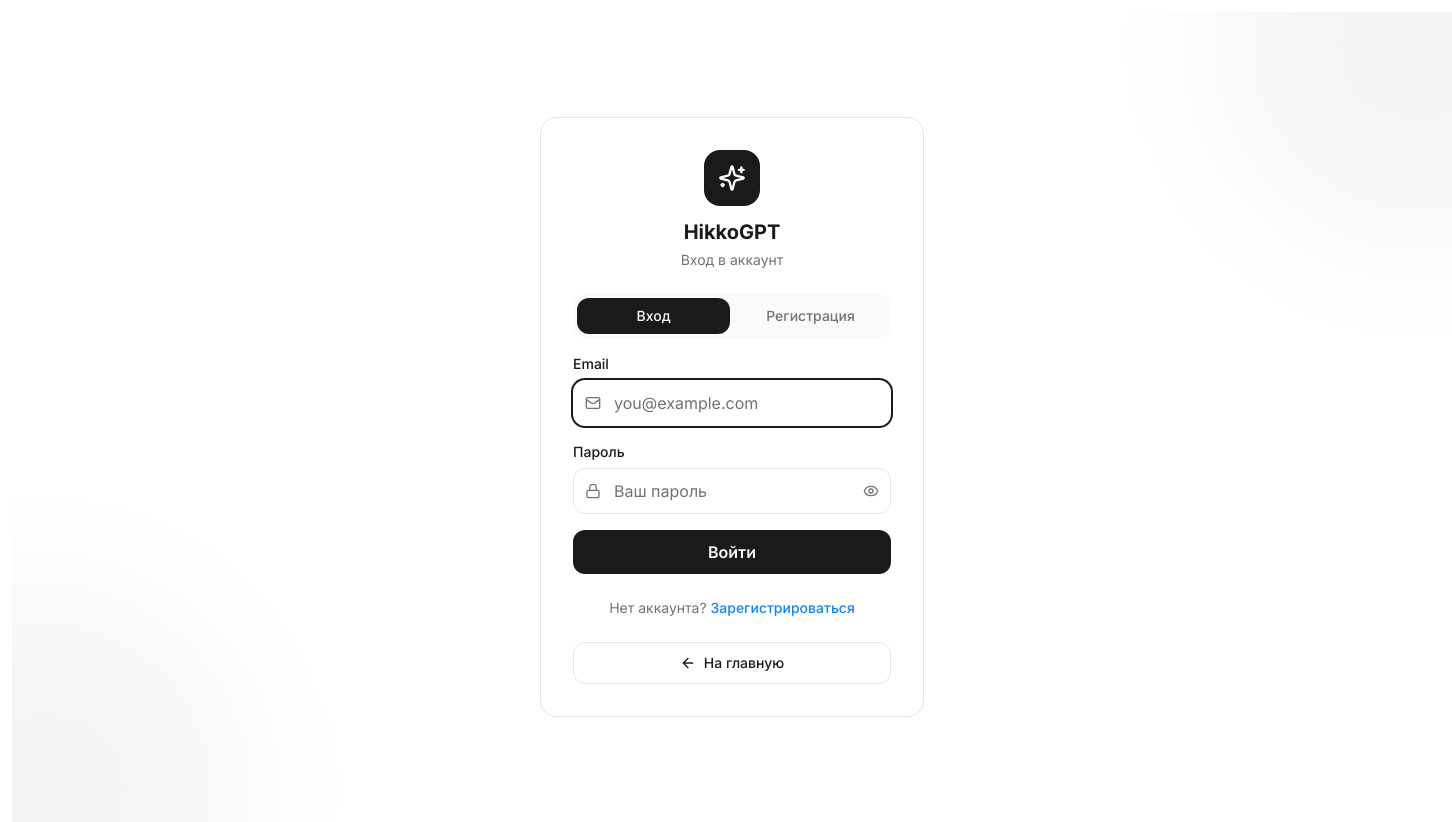
Auth page without email-link verification › signs in without calling the public signup or reset mailers
The width and height of the screenshot is (1452, 822).
Type "user@example.com" into the field labelled "Email".
click(732, 403); type("user@example.com")  # box top-left (573, 380), bottom-right (891, 426)
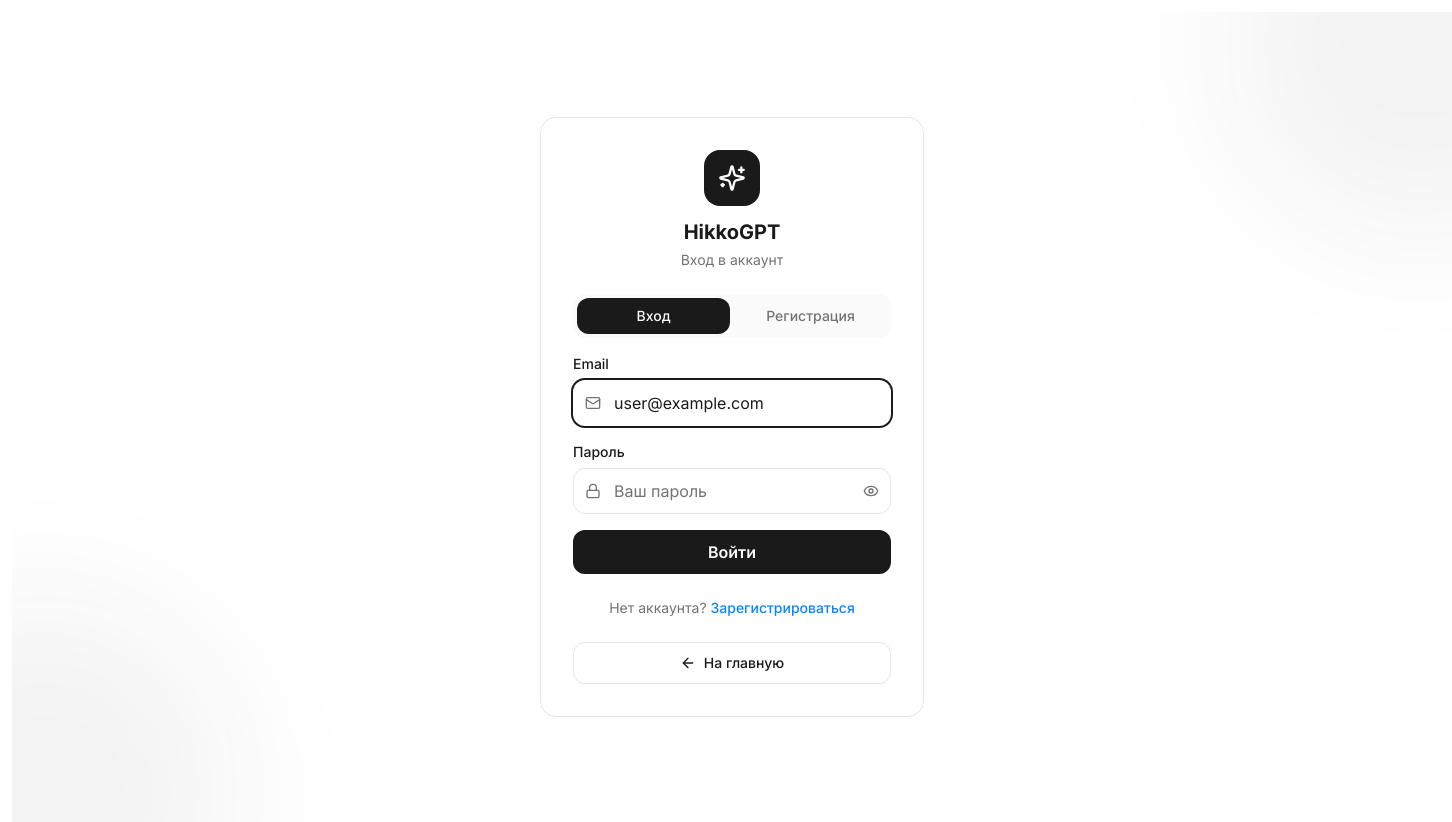
Type "secret1" into the password field labelled "Пароль".
click(732, 491); type("secret1")  # box top-left (573, 468), bottom-right (891, 514)
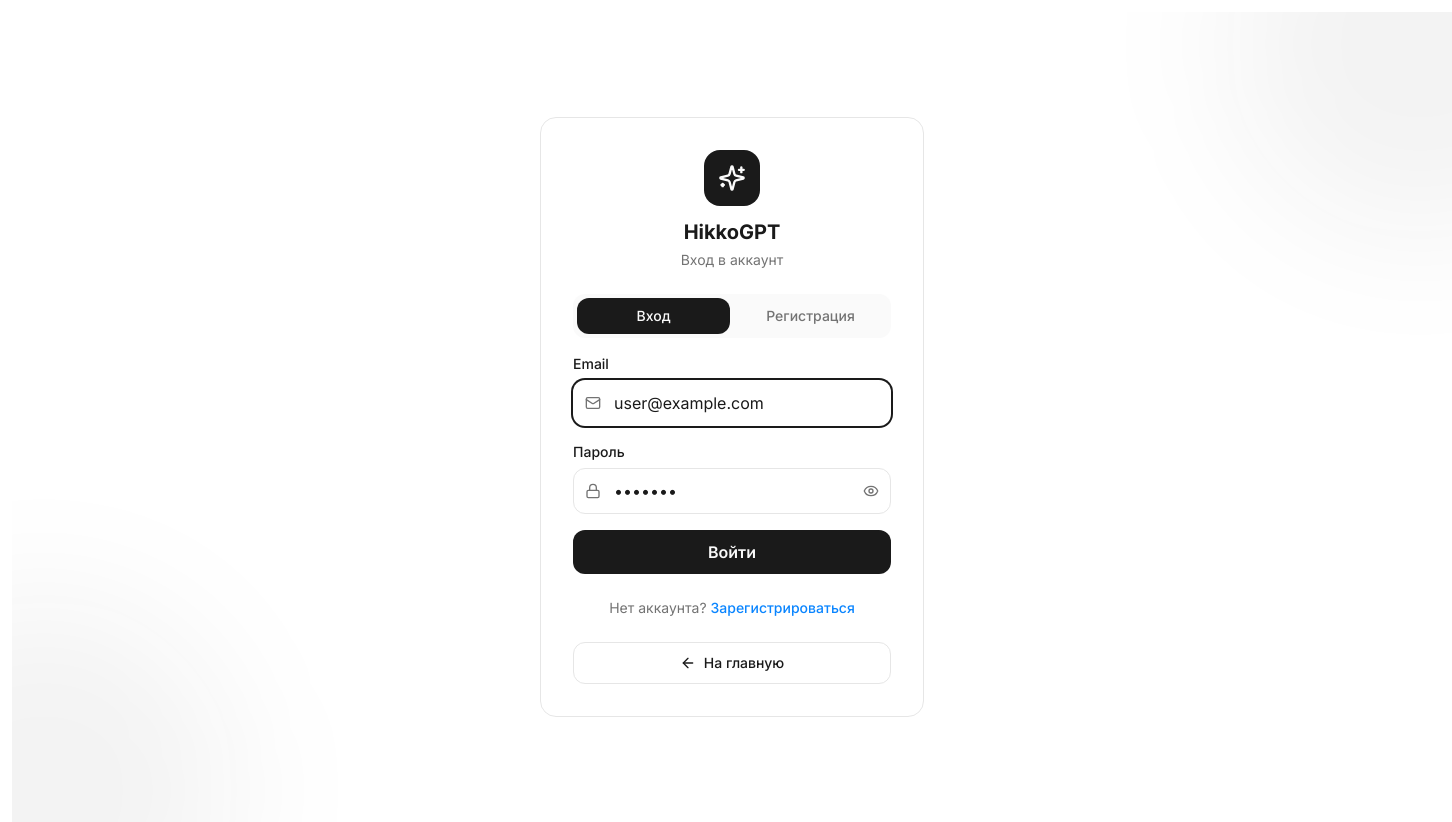
Click the button "Войти".
click(732, 552)  # box top-left (573, 530), bottom-right (891, 574)
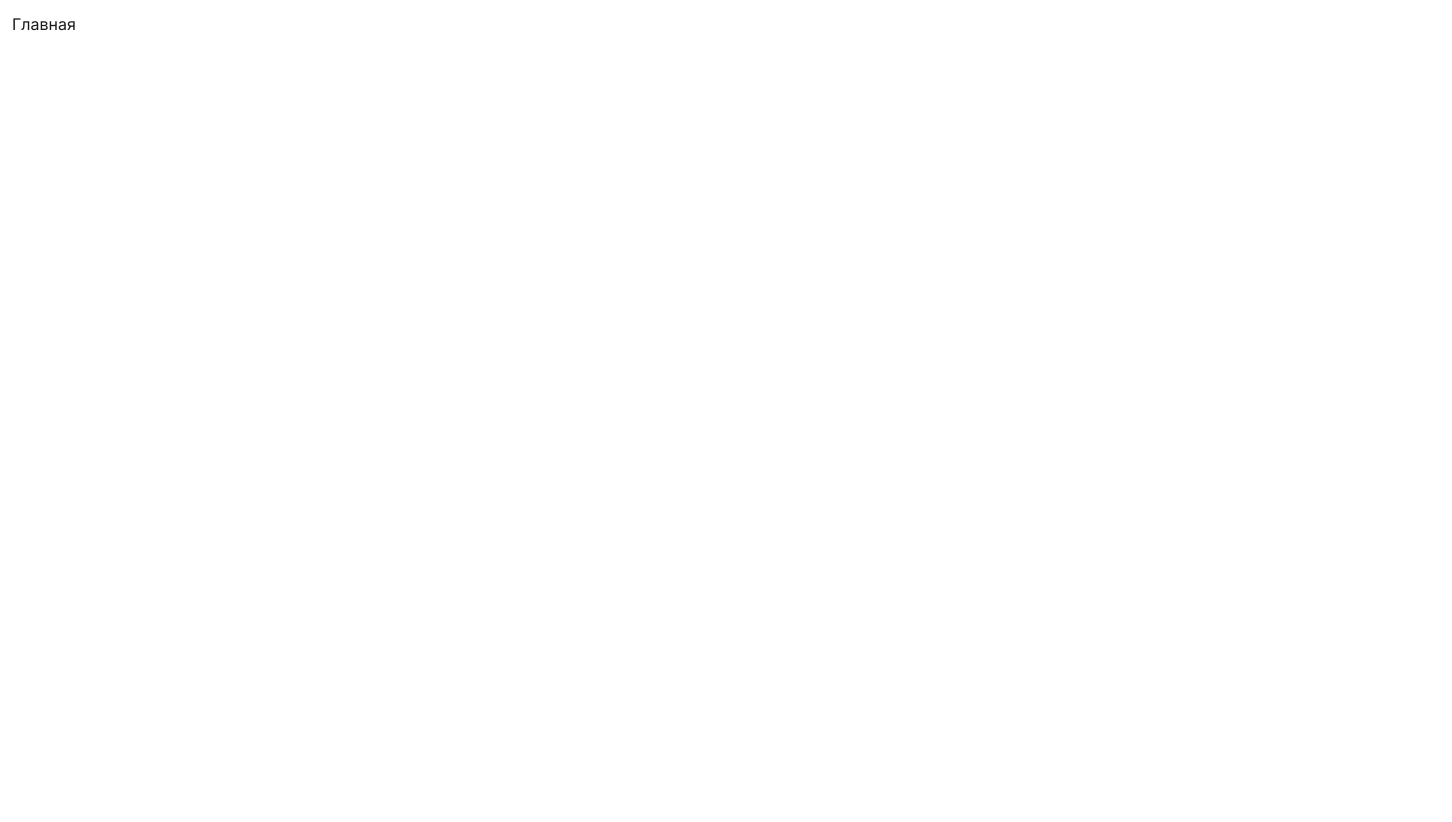
Expected: the text "Главная" is shown, top-left (12, 14), bottom-right (76, 34)
